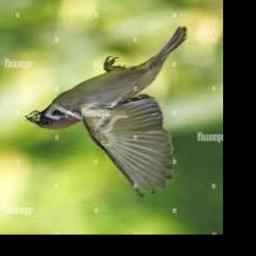Sparrow: (26, 28, 187, 197)
